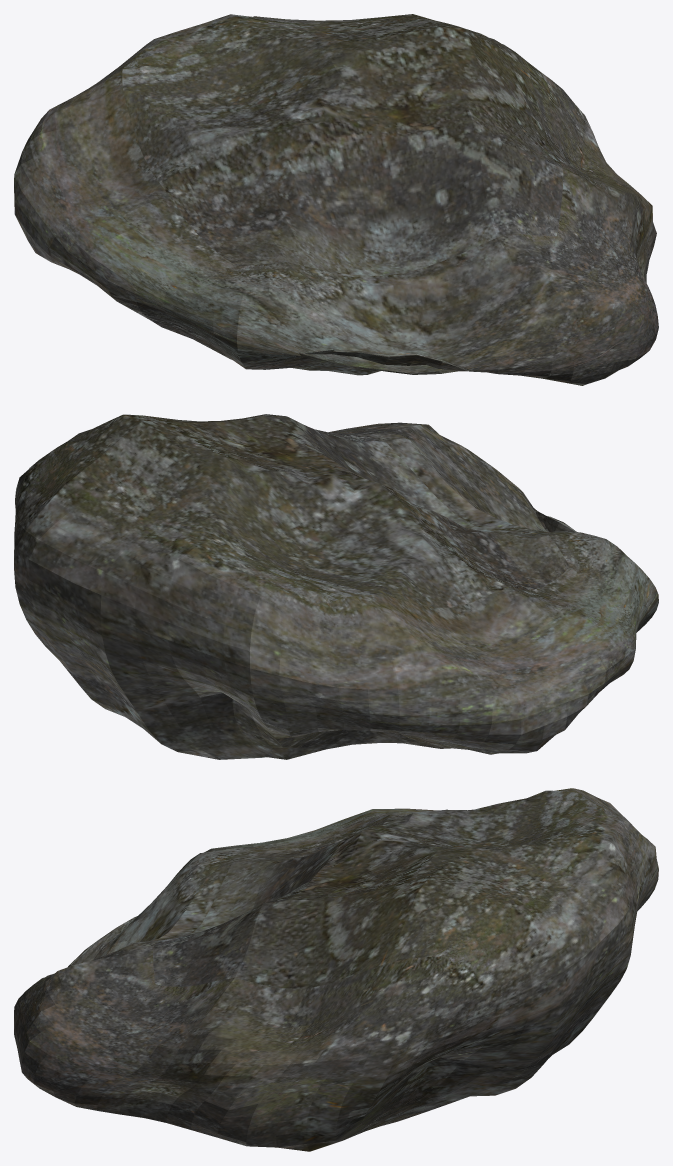
File: fishesInSeaScene.obj
3 renders of one model, top to bottom at view 1: azimuth 30°, elevation 25°; view 2: azimuth 150°, elevation 25°; view 3: azimuth 270°, elevation 25°, orthographic. The views are drawn at different scales.
Parts seen in each view (by area): view 1: Cube.003; view 2: Cube.003; view 3: Cube.003.
Boxes of the visible parts, x1,y1,x2,y2 form: Cube.003: (14, 14, 658, 385); Cube.003: (14, 414, 658, 759); Cube.003: (14, 788, 658, 1151).
Bounding box in the file's own units: 1.74 × 0.7874 × 1.85.
1 material, 1 textured.
